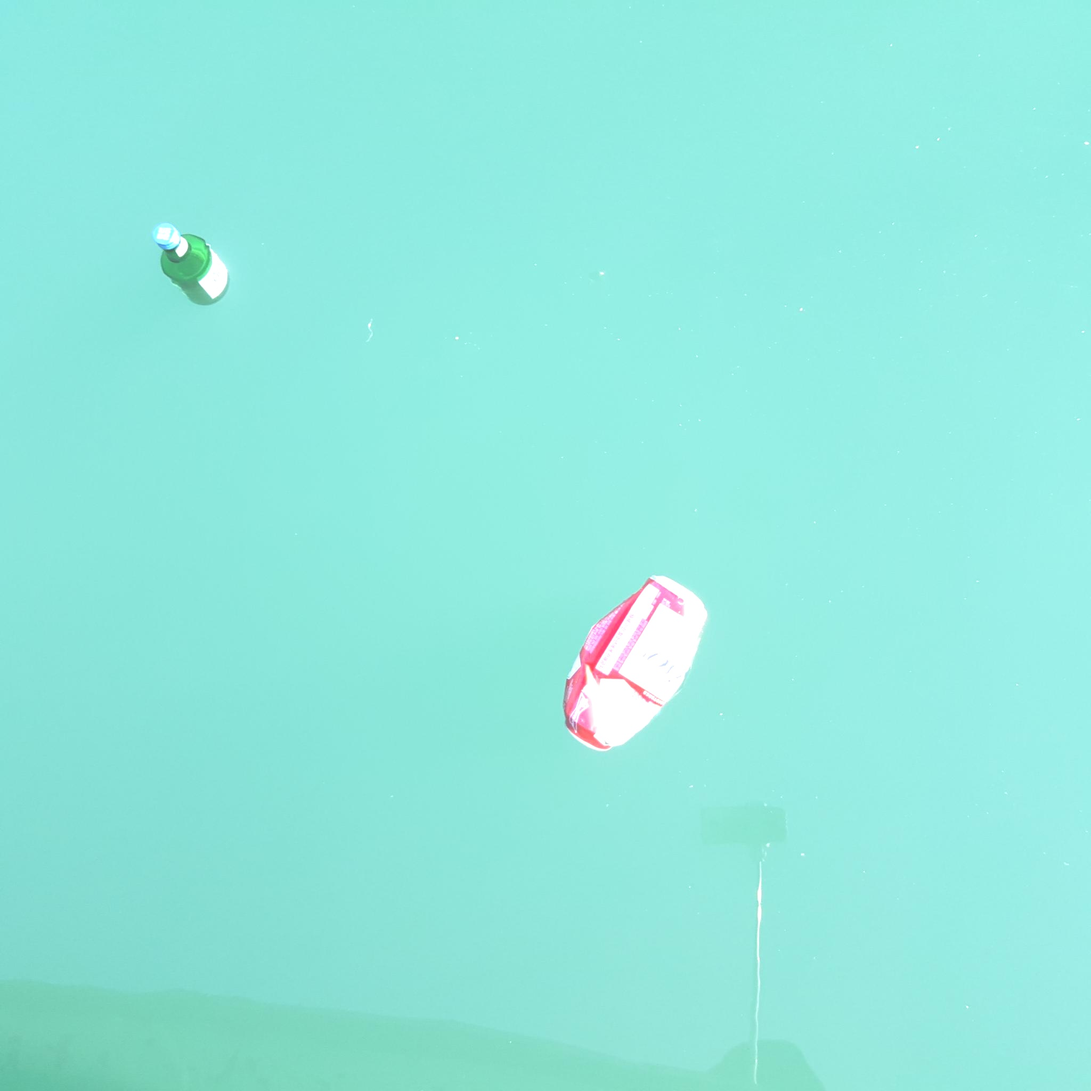sampah_terapung: (564, 576, 708, 752), (153, 223, 231, 306)
